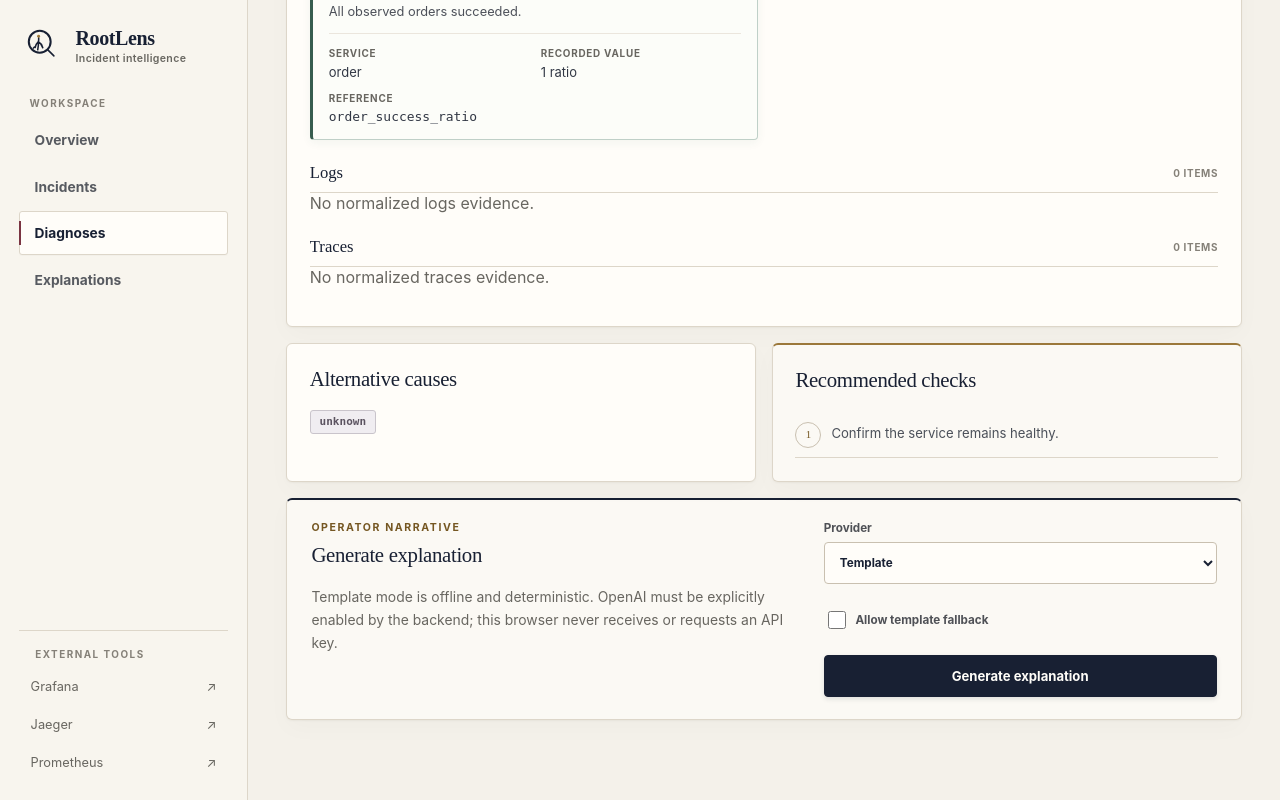
diagnoses and explanations › displays the exact safe OpenAI-disabled response
The width and height of the screenshot is (1280, 800).
(page scrolled)
Select "OpenAI" in the dropdown labelled "Provider" at (1020, 563), box [824,542,1217,584]
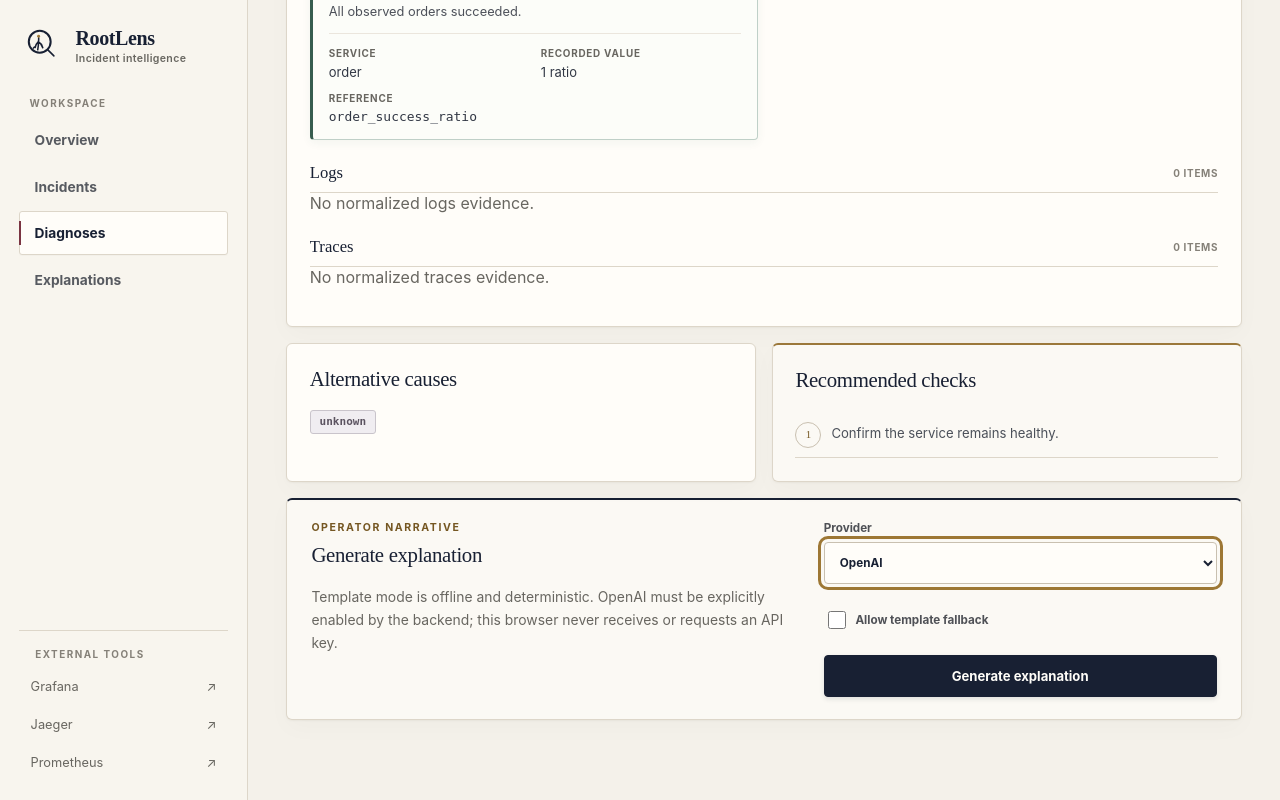
Click the button "Generate explanation".
click(1020, 676)  # box [824,655,1217,697]
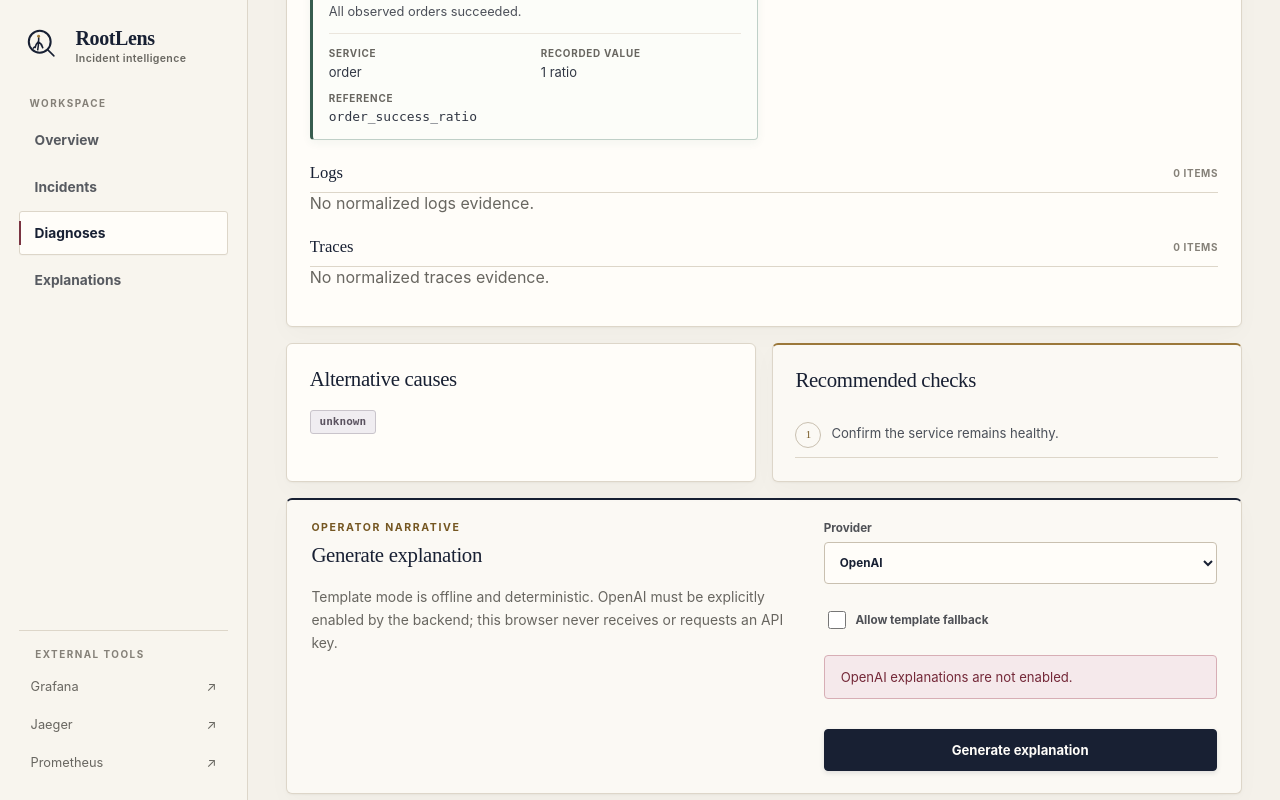
Result: the text "OpenAI explanations are not enabled." is shown at [824,655,1217,698]
